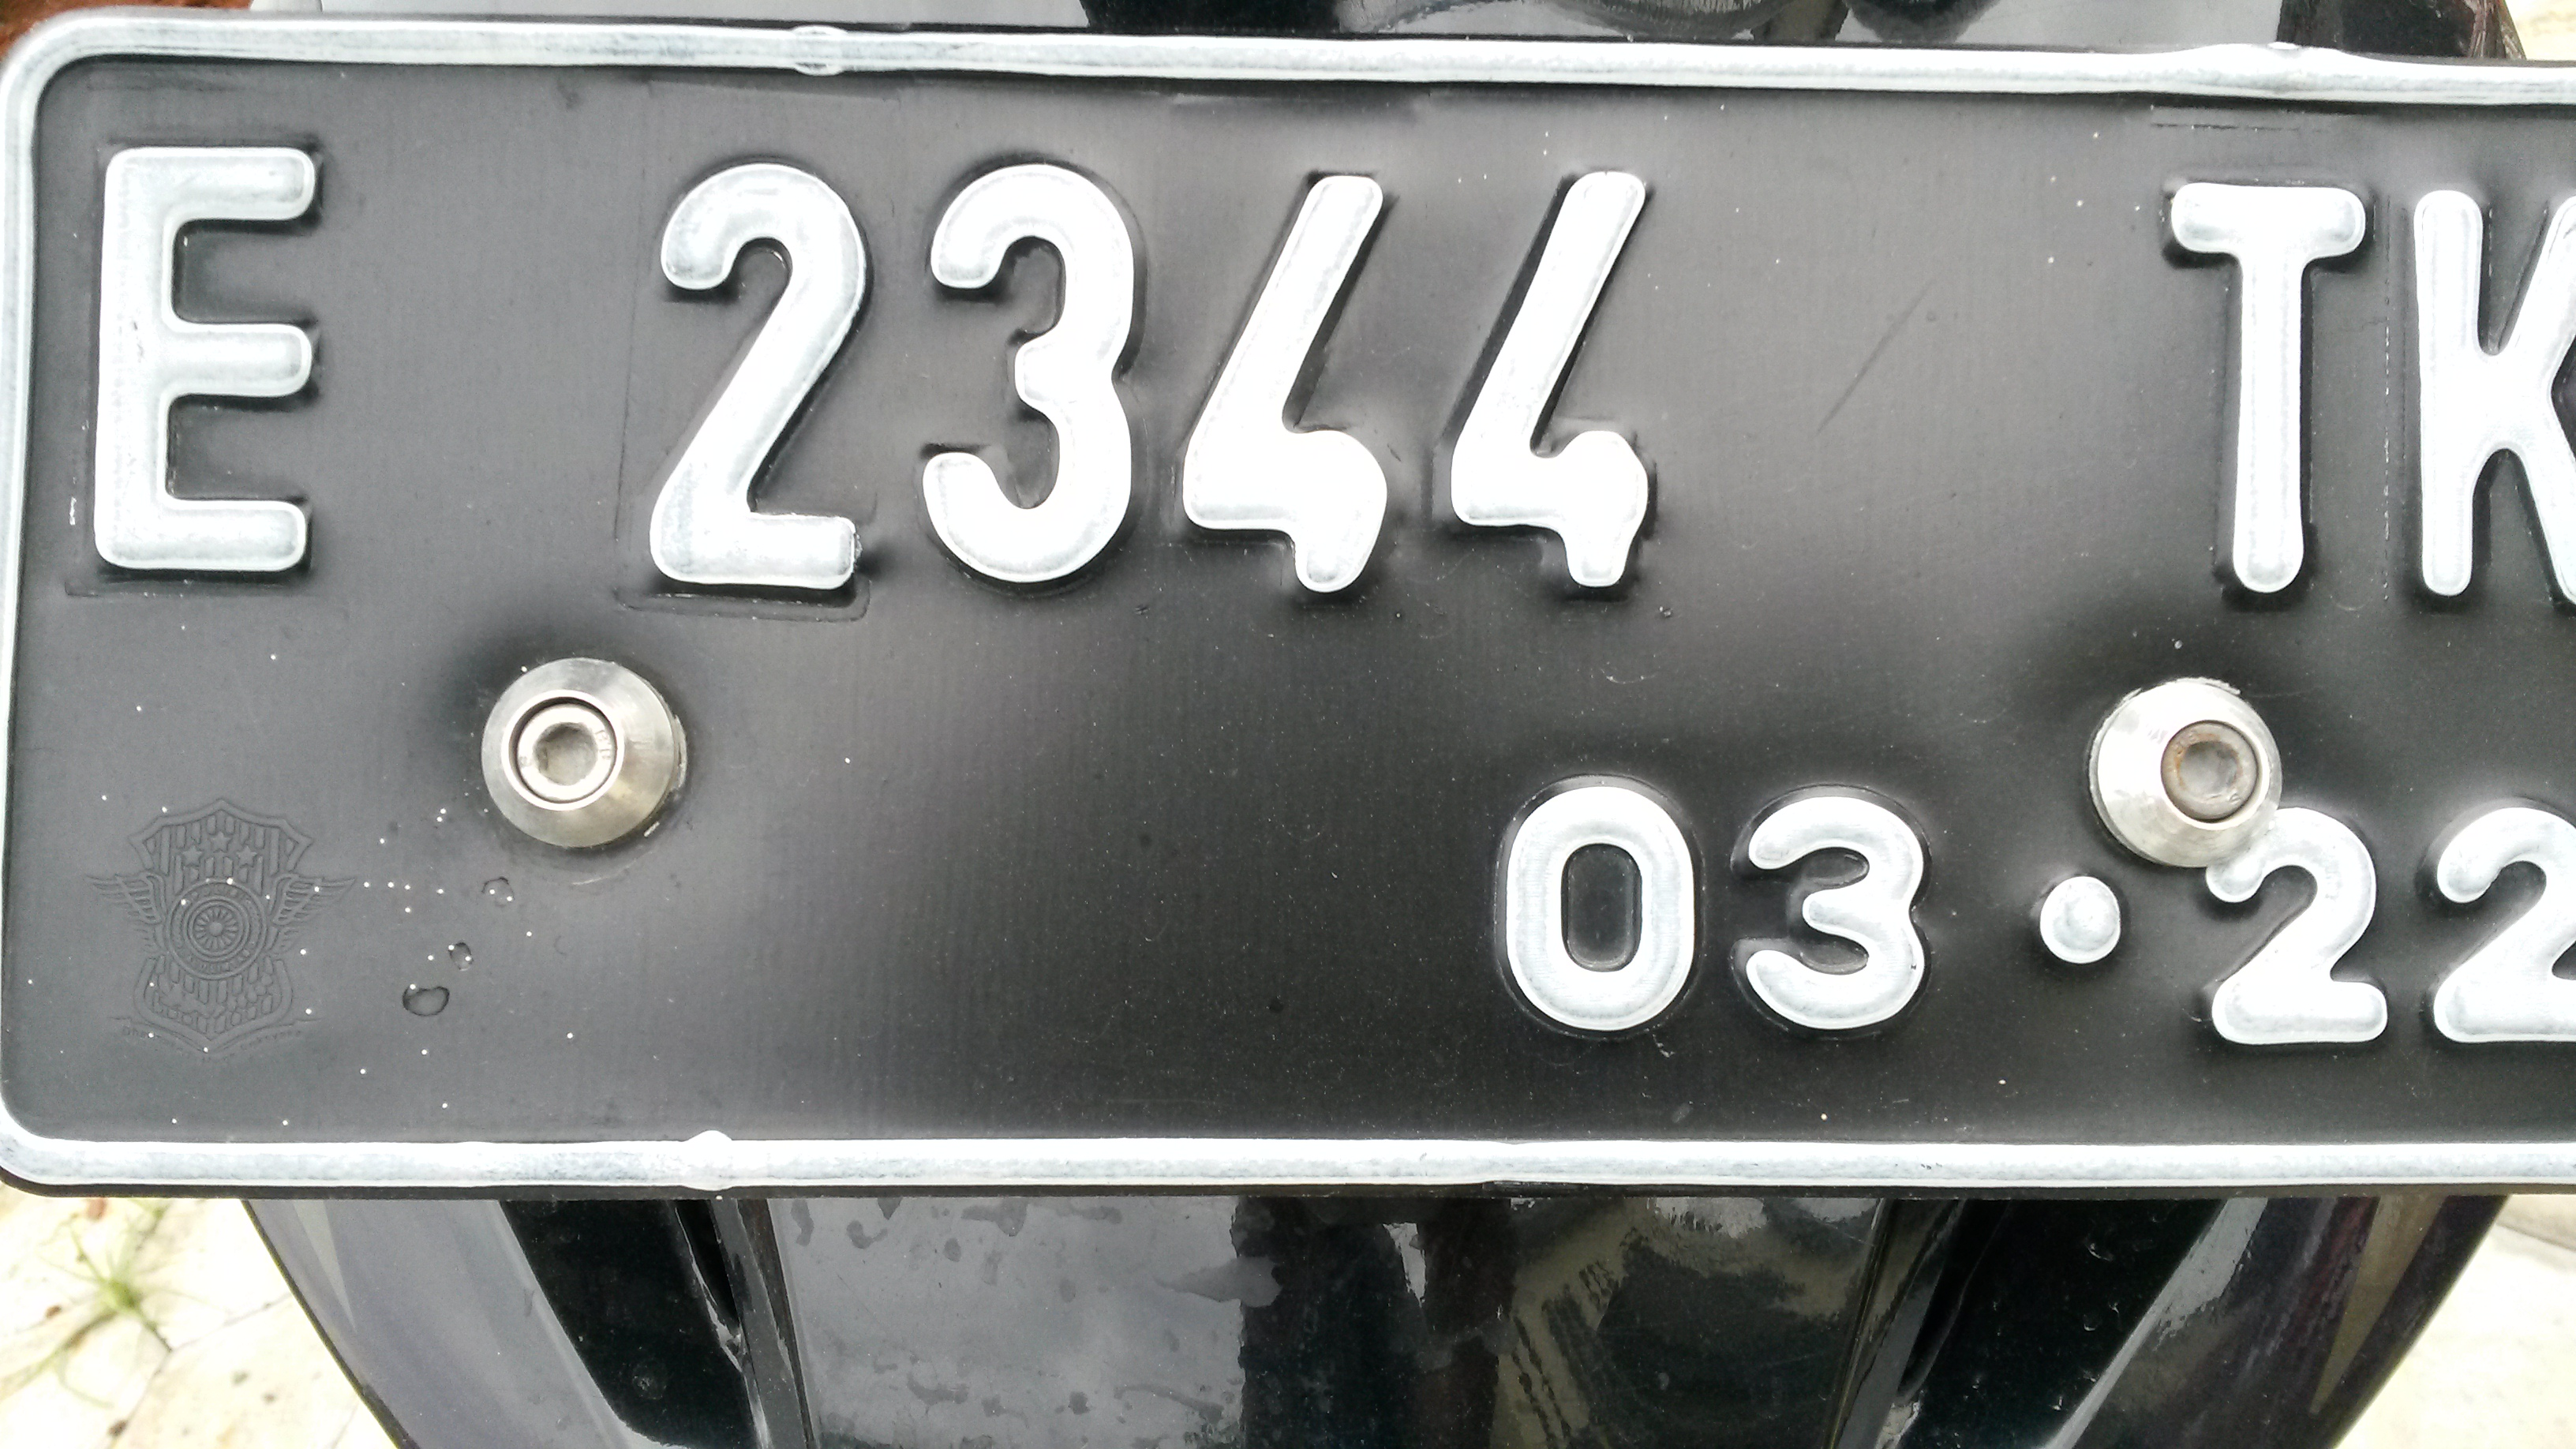plate: (9, 14, 2576, 1191)
